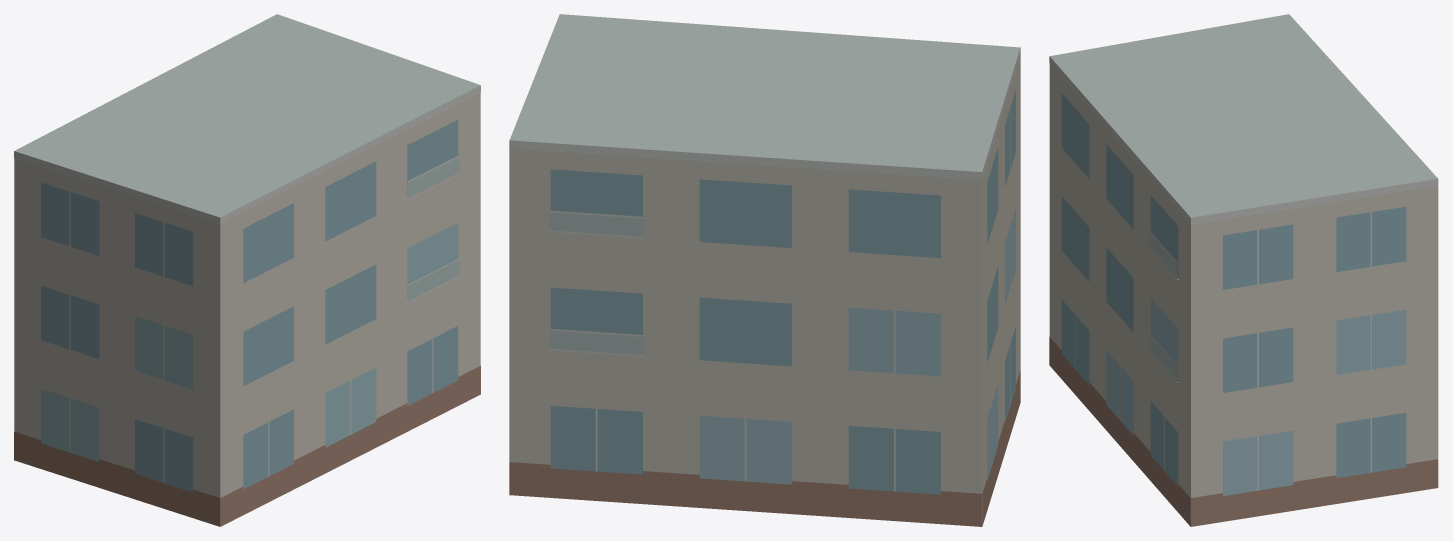
File: survey-upis-32860229.glb
3 views of the same model, side by side, from view 1: azimuth 30°, elevation 25°; view 2: azimuth 150°, elevation 25°; view 3: azimuth 270°, elevation 25° (orthographic). The views are drawn at different scales.
Parts seen in each view (by area): view 1: survey-upis-32860229.tmp; view 2: survey-upis-32860229.tmp; view 3: survey-upis-32860229.tmp.
Part boxes in pixels (x1,y1,x2,y2): survey-upis-32860229.tmp: [14, 14, 480, 526]; survey-upis-32860229.tmp: [509, 14, 1020, 526]; survey-upis-32860229.tmp: [1049, 14, 1438, 526].
Bounding box in the file's own units: 14.92 × 10.55 × 12.03.
